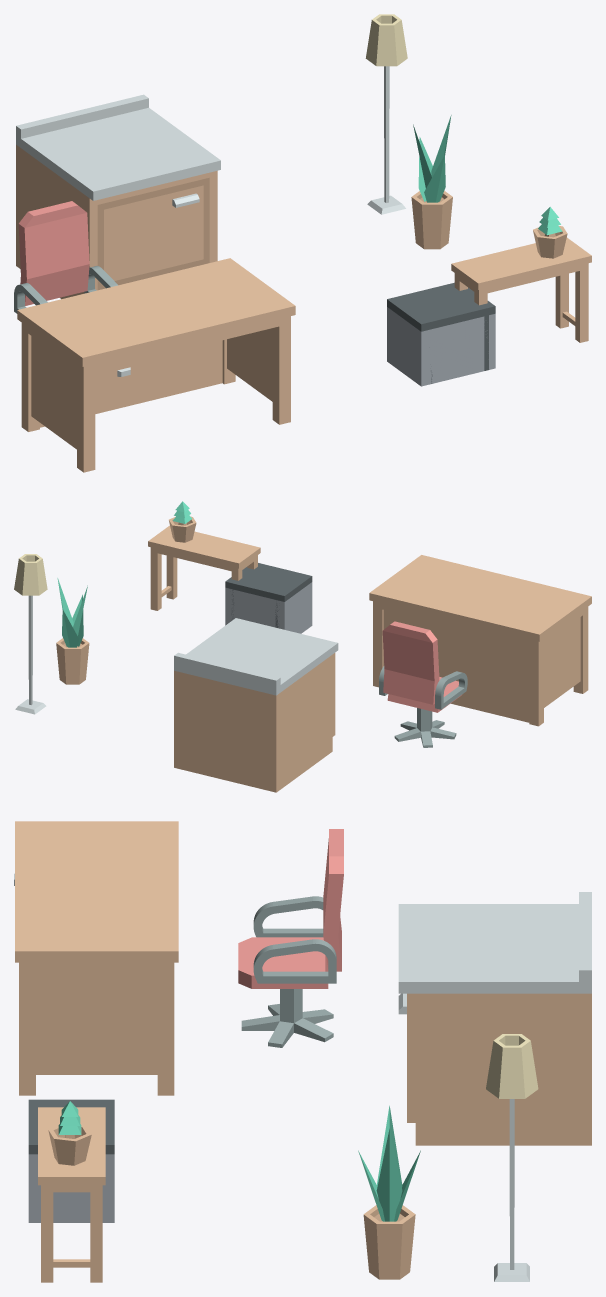
The picture shows the model from 3 angles, top to bottom: view 1: azimuth 30°, elevation 25°; view 2: azimuth 150°, elevation 25°; view 3: azimuth 270°, elevation 25°; orthographic projection. The views are drawn at different scales.
Visible parts, largest first — view 1: desk_blue__desk(Clone), cabinet_blue__kitchenCabinet(Clone), cabinet_blue__door, deskchair_black__chair, sidetable_brown__sideTable(Clone), crate_red__crate_red shell, lamp_white__lampRoundFloor(Clone), crate_red__crate_red lid, plant_pink__pottedPlant(Clone), plant_pink__plant, flowerpot_green__plantSmall1(Clone), desk_blue__drawer; view 2: desk_blue__desk(Clone), cabinet_blue__kitchenCabinet(Clone), deskchair_black__chair, sidetable_brown__sideTable(Clone), crate_red__crate_red shell, crate_red__crate_red lid, lamp_white__lampRoundFloor(Clone), plant_pink__pottedPlant(Clone), deskchair_black__chairDesk(Clone), plant_pink__plant, flowerpot_green__plantSmall1(Clone); view 3: cabinet_blue__kitchenCabinet(Clone), desk_blue__desk(Clone), deskchair_black__chair, sidetable_brown__sideTable(Clone), lamp_white__lampRoundFloor(Clone), plant_pink__pottedPlant(Clone), crate_red__crate_red shell, deskchair_black__chairDesk(Clone), plant_pink__plant, flowerpot_green__plantSmall1(Clone), crate_red__crate_red lid.
Boxes of the visible parts, x1,y1,x2,y2 form: desk_blue__desk(Clone): (17,258,295,472); cabinet_blue__kitchenCabinet(Clone): (16,94,220,299); cabinet_blue__door: (97,177,209,290); deskchair_black__chair: (14,201,117,313); sidetable_brown__sideTable(Clone): (451,237,591,342); crate_red__crate_red shell: (387,307,495,386); lamp_white__lampRoundFloor(Clone): (365,14,407,214); crate_red__crate_red lid: (387,284,495,331); plant_pink__pottedPlant(Clone): (411,191,452,249); plant_pink__plant: (413,115,451,202); flowerpot_green__plantSmall1(Clone): (533,207,567,258); desk_blue__drawer: (95,357,152,386); desk_blue__desk(Clone): (369,555,591,726); cabinet_blue__kitchenCabinet(Clone): (174,618,338,792); deskchair_black__chair: (379,621,467,712); sidetable_brown__sideTable(Clone): (148,525,260,610); crate_red__crate_red shell: (225,582,312,633); crate_red__crate_red lid: (225,563,312,601); lamp_white__lampRoundFloor(Clone): (14,554,47,714); plant_pink__pottedPlant(Clone): (56,638,89,684); deskchair_black__chairDesk(Clone): (394,708,456,747); plant_pink__plant: (57,578,87,647); flowerpot_green__plantSmall1(Clone): (169,501,196,542); cabinet_blue__kitchenCabinet(Clone): (398,892,591,1145); desk_blue__desk(Clone): (15,821,178,1095); deskchair_black__chair: (238,829,343,988); sidetable_brown__sideTable(Clone): (38,1107,105,1282); lamp_white__lampRoundFloor(Clone): (486,1034,538,1281); plant_pink__pottedPlant(Clone): (363,1205,415,1279); crate_red__crate_red shell: (28,1154,114,1222); deskchair_black__chairDesk(Clone): (241,989,333,1047); plant_pink__plant: (358,1105,420,1221); flowerpot_green__plantSmall1(Clone): (48,1101,91,1165); crate_red__crate_red lid: (28,1099,114,1154).
Bounding box in the file's own units: 3.49 × 1.2 × 2.69.
